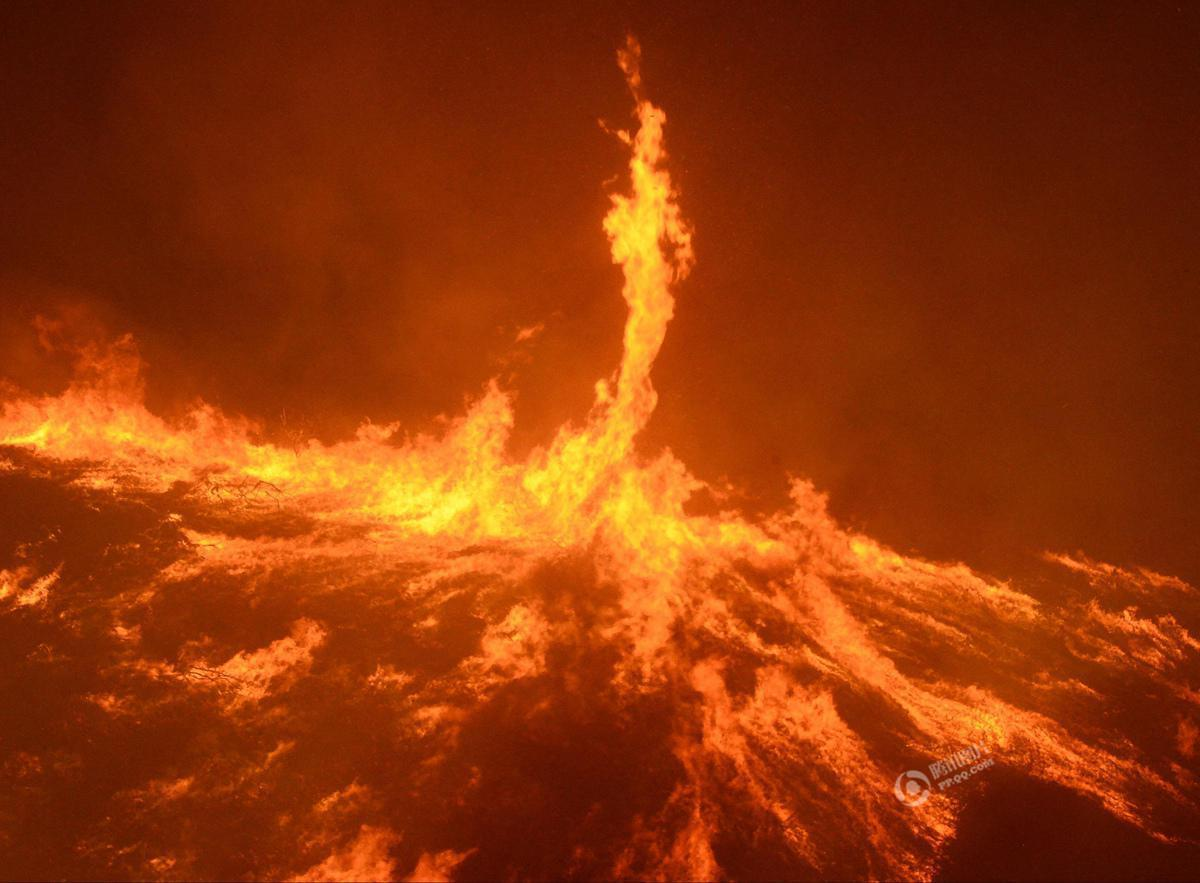fire: (0, 342, 1171, 868), (610, 44, 698, 489)
